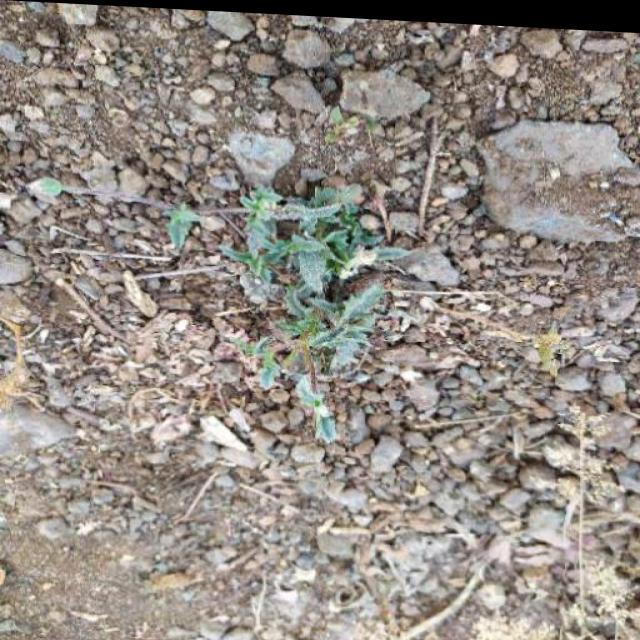weed: (160, 160, 400, 389)
